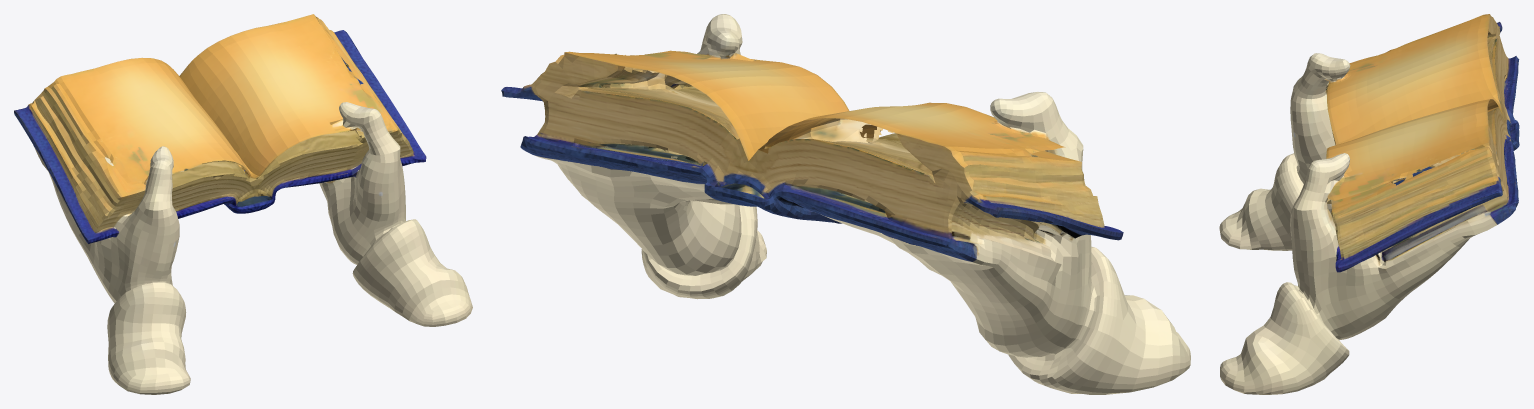
File: Meshy_AI_un_libro_abierto_de_t_0608042835_texture.obj
3 renders of one model, left to right at view 1: azimuth 30°, elevation 25°; view 2: azimuth 150°, elevation 25°; view 3: azimuth 270°, elevation 25°, orthographic. The views are drawn at different scales.
Visible parts, largest first — view 1: Meshy_AI_un_libro_abierto_de_t_0608042835_texture; view 2: Meshy_AI_un_libro_abierto_de_t_0608042835_texture; view 3: Meshy_AI_un_libro_abierto_de_t_0608042835_texture.
Part boxes in pixels (<box>): Meshy_AI_un_libro_abierto_de_t_0608042835_texture: <box>14,14,472,394</box>; Meshy_AI_un_libro_abierto_de_t_0608042835_texture: <box>501,14,1190,394</box>; Meshy_AI_un_libro_abierto_de_t_0608042835_texture: <box>1219,14,1519,394</box>.
Bounding box in the file's own units: 1.9 × 1.15 × 1.35.
Materials: 1 (1 with a texture image).
